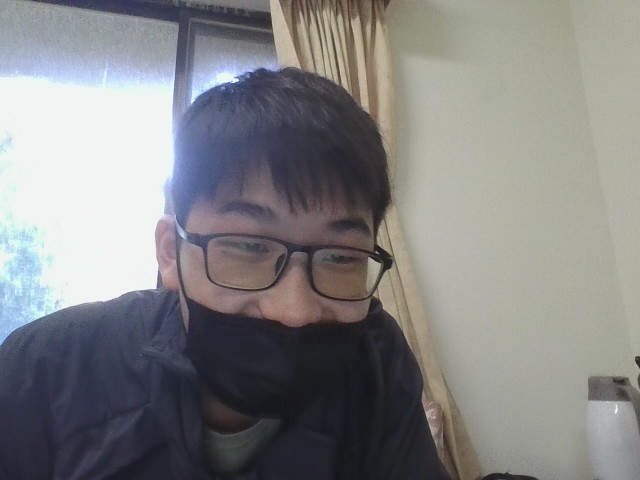No_Helmet: (153, 58, 399, 330)
person: (0, 45, 580, 478)
